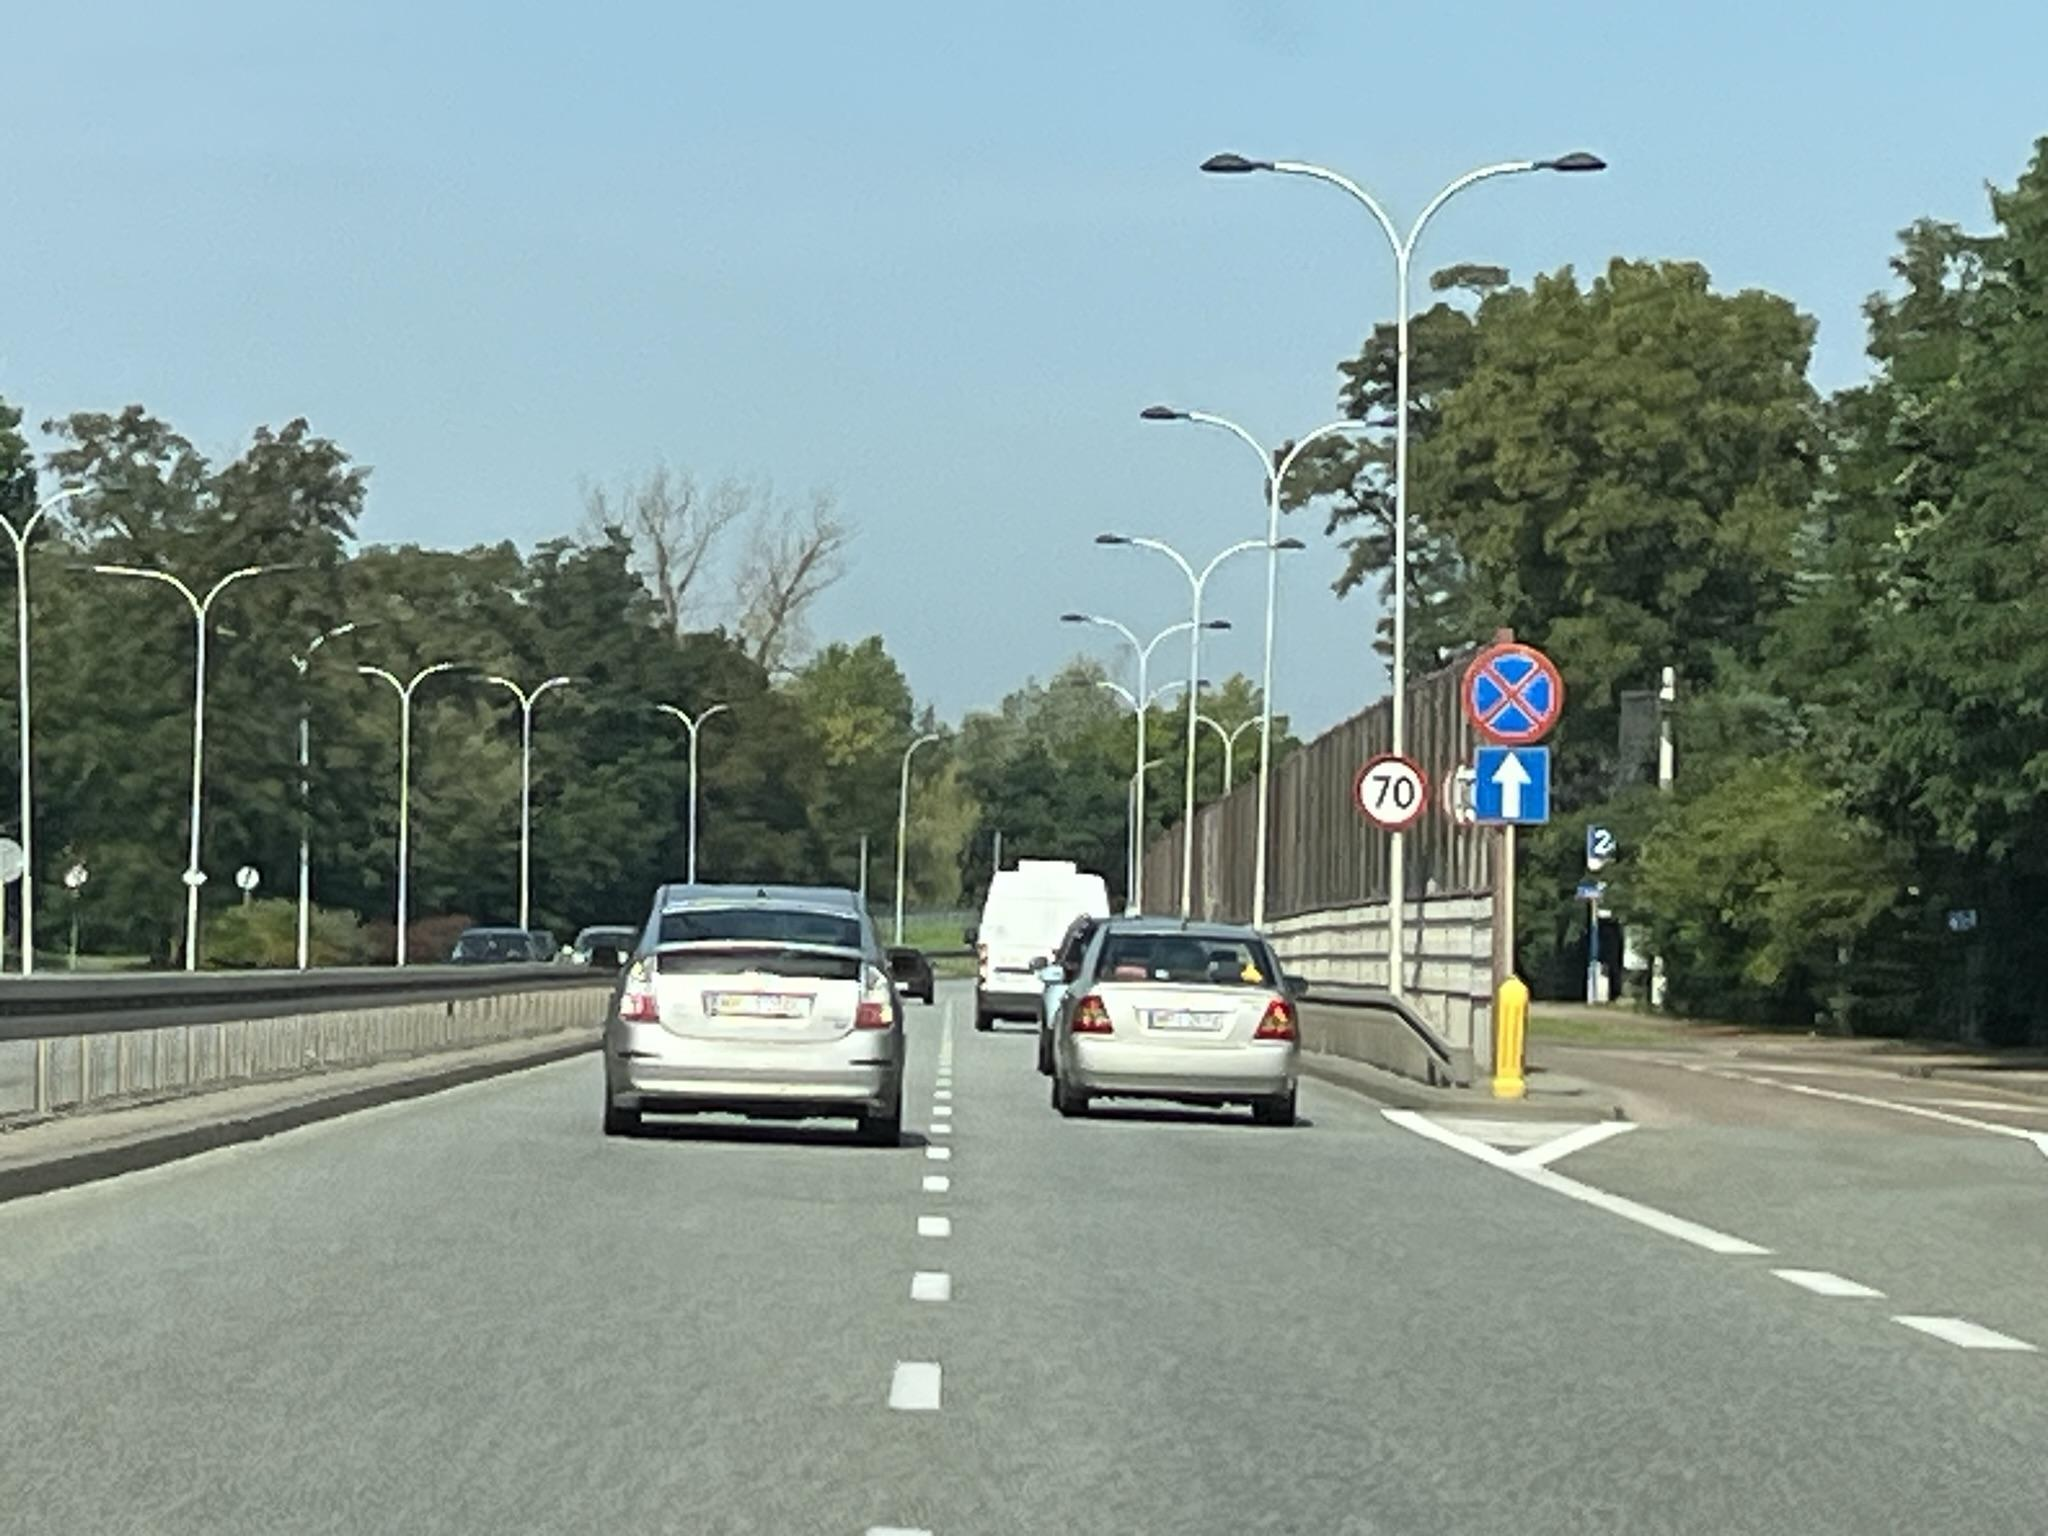information: (1474, 744, 1550, 824)
prohibitory: (1461, 641, 1566, 747), (1353, 753, 1432, 831)
